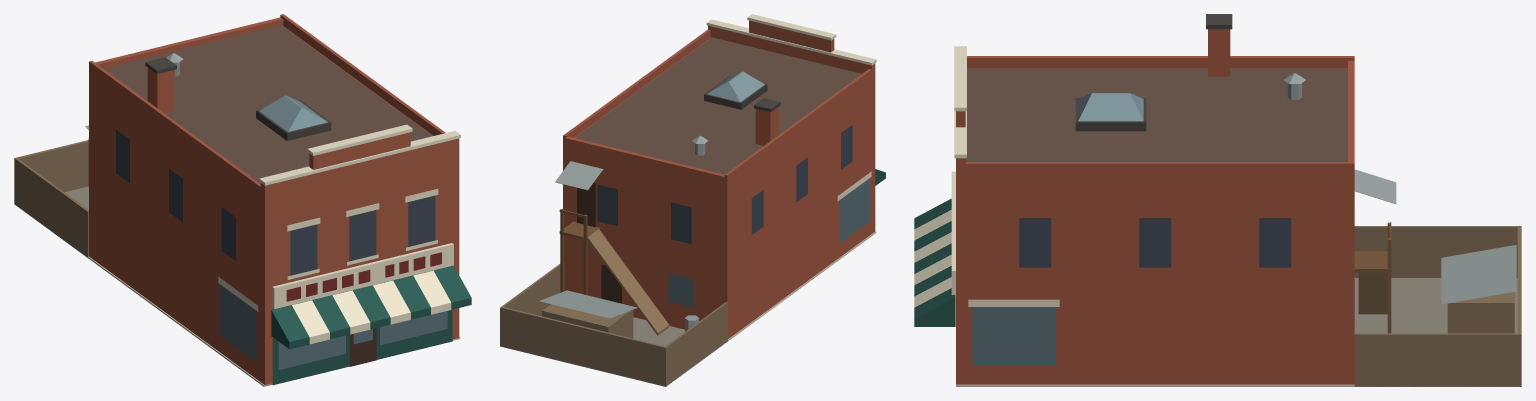
Rendered from shop_wa.glb.
3 renders of one model, left to right at view 1: azimuth 30°, elevation 25°; view 2: azimuth 150°, elevation 25°; view 3: azimuth 270°, elevation 25°, orthographic. The views are drawn at different scales.
Parts seen in each view (by area): view 1: shop_wa; view 2: shop_wa; view 3: shop_wa.
Part boxes in pixels (x1,y1,x2,y2): shop_wa: [14, 14, 471, 386]; shop_wa: [500, 14, 885, 386]; shop_wa: [914, 14, 1521, 386].
Size of the model in its own units: 18 by 20.57 by 42.52.
